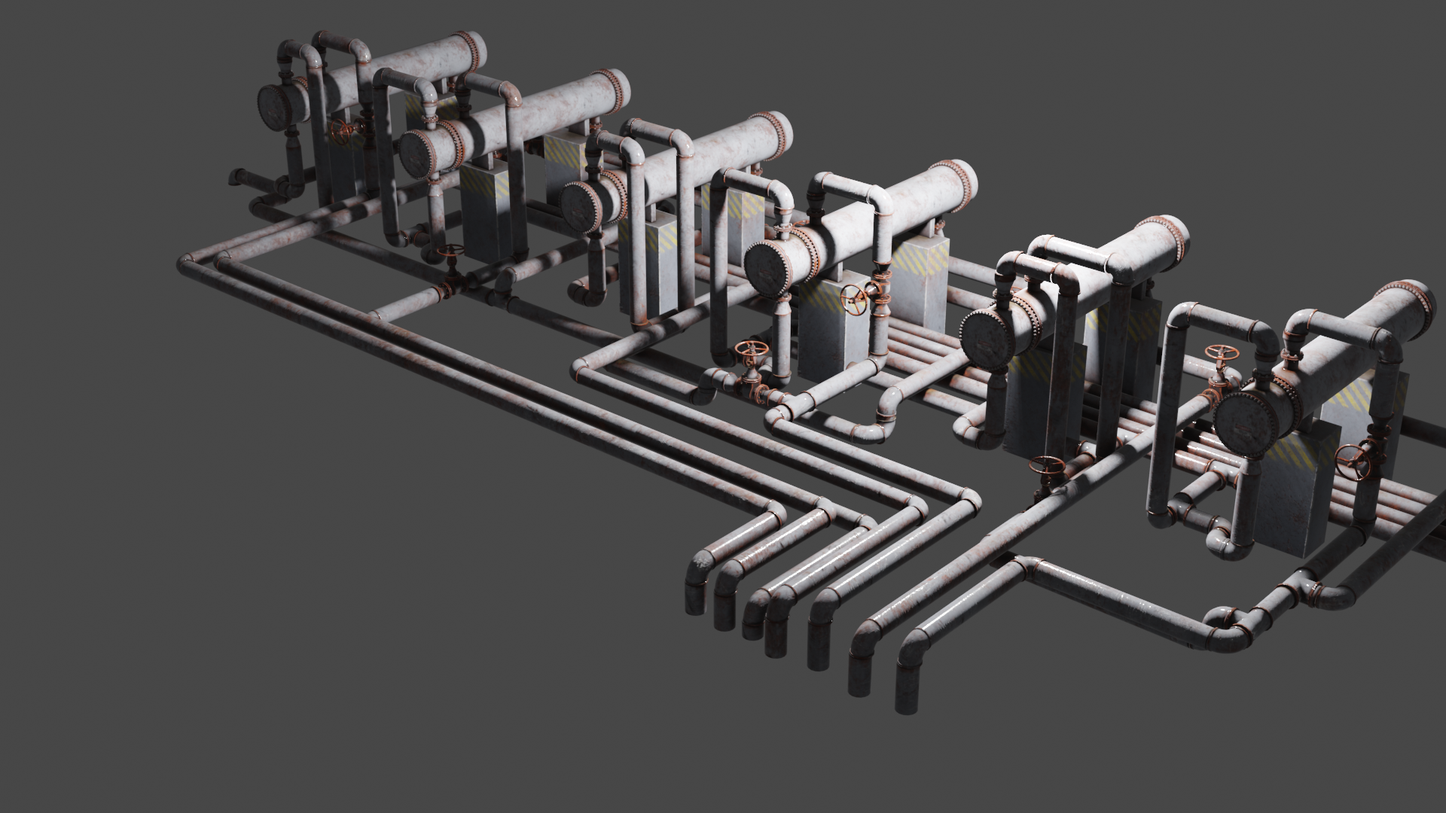HE_1: (256, 29, 485, 135)
HE_2: (397, 61, 634, 177)
HE_3: (559, 109, 796, 235)
HE_4: (740, 155, 978, 301)
HE_5: (956, 209, 1192, 371)
HE_6: (1213, 272, 1442, 458)
